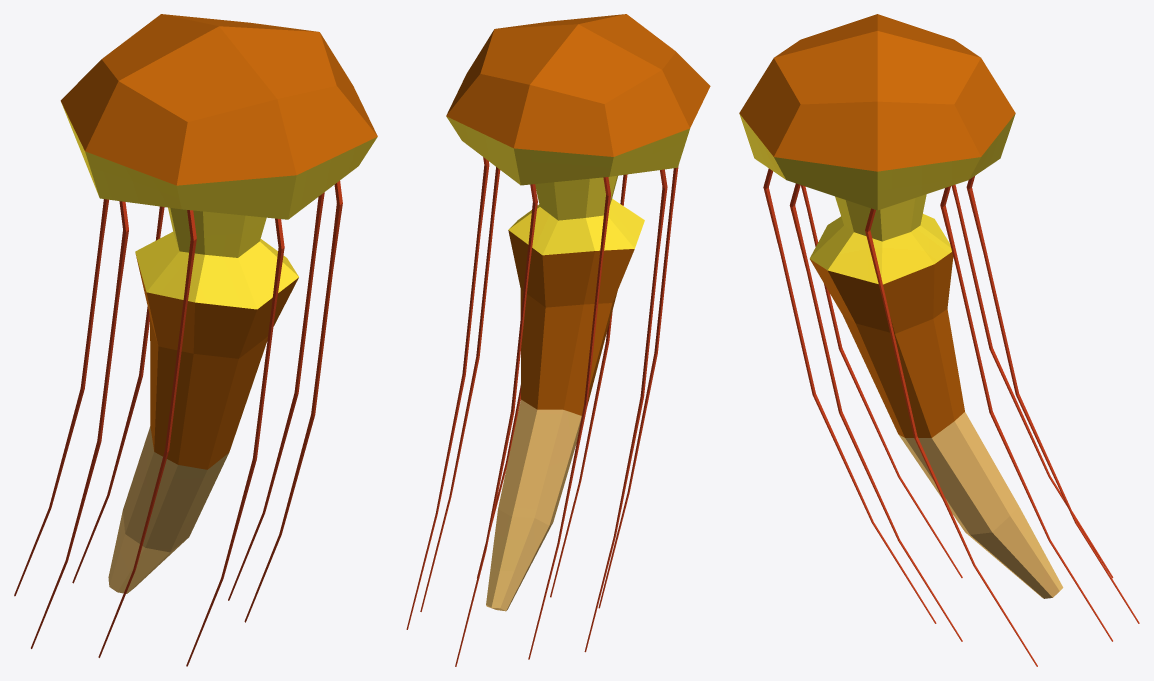
The model's file is jelly.glb.
3 views of the same model, side by side, from view 1: azimuth 30°, elevation 25°; view 2: azimuth 150°, elevation 25°; view 3: azimuth 270°, elevation 25° (orthographic). The views are drawn at different scales.
Visible parts, largest first — view 1: Geo_Jellyfish; view 2: Geo_Jellyfish; view 3: Geo_Jellyfish.
Boxes of the visible parts, x1,y1,x2,y2 form: Geo_Jellyfish: [14, 14, 377, 666]; Geo_Jellyfish: [406, 14, 710, 666]; Geo_Jellyfish: [739, 14, 1139, 666].
Bounding box in the file's own units: 57.48 × 136 × 83.27.
1 material, 1 textured.
